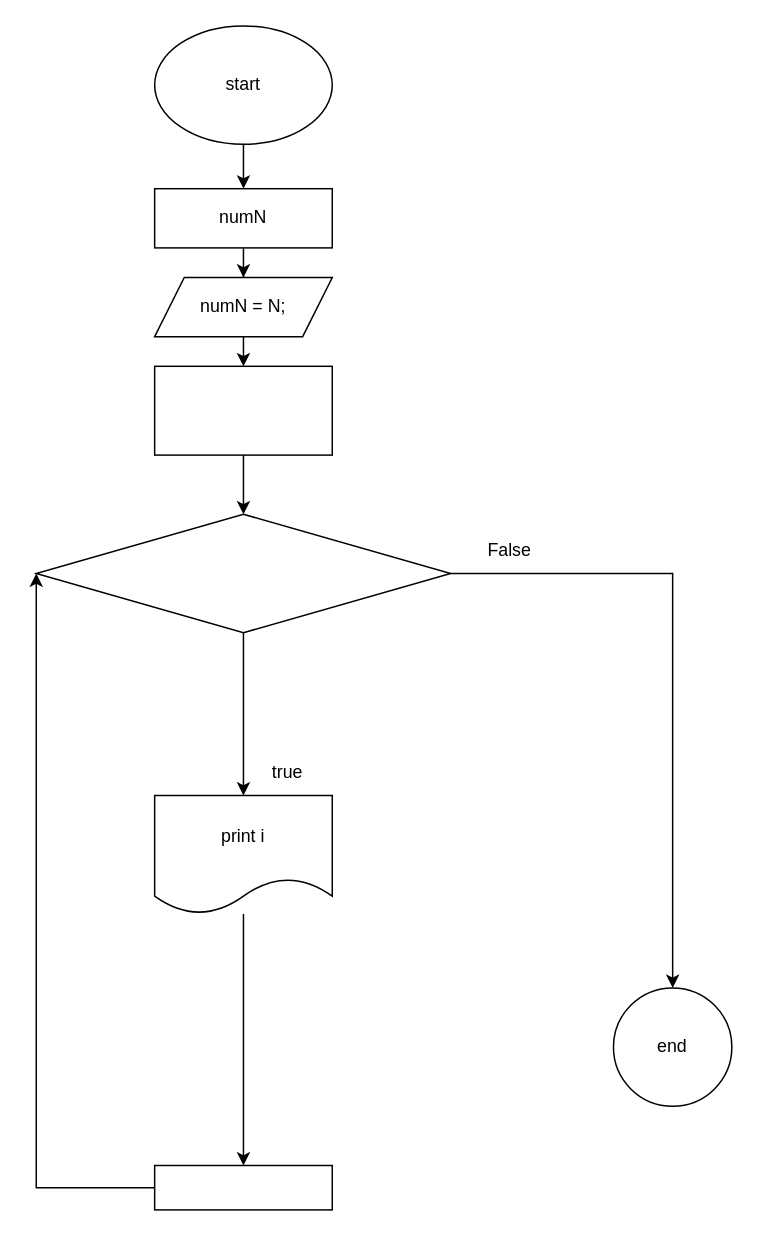
Image size: 758x1236. Some labels were removed from this diagram. The centre of each missing label's shape, as x and y in pixels:
i<=N;: point (243, 573)
i=2: point (242, 410)
i=i+2: point (242, 1187)
